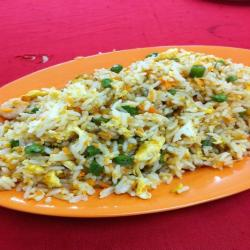rice: (4, 48, 250, 189)
